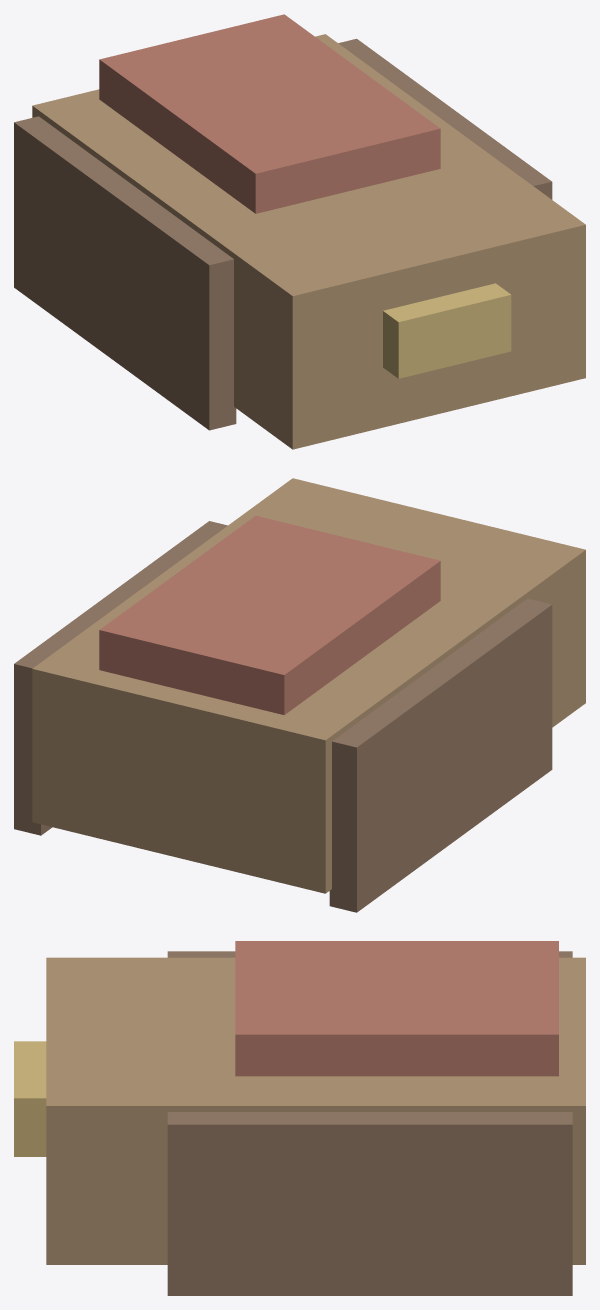
File: carro_mercante.glb
3 views of the same model, one above another, from view 1: azimuth 30°, elevation 25°; view 2: azimuth 150°, elevation 25°; view 3: azimuth 270°, elevation 25° (orthographic). The views are drawn at different scales.
Parts seen in each view (by area): view 1: part_000, part_003, part_001, part_004, part_002; view 2: part_000, part_003, part_001, part_002; view 3: part_002, part_000, part_003, part_004, part_001.
Part boxes in pixels (<box>): part_000: <box>32,34,585,449</box>; part_003: <box>99,14,440,213</box>; part_001: <box>14,116,236,430</box>; part_004: <box>383,283,511,378</box>; part_002: <box>338,38,552,199</box>; part_000: <box>32,478,585,893</box>; part_003: <box>99,515,440,715</box>; part_001: <box>329,598,552,912</box>; part_002: <box>14,521,227,835</box>; part_002: <box>167,1112,572,1295</box>; part_000: <box>46,957,585,1264</box>; part_003: <box>235,941,558,1076</box>; part_004: <box>14,1041,46,1156</box>; part_001: <box>167,951,572,957</box>.
Size of the model in its own units: 1.52 by 0.905 by 2.12.
